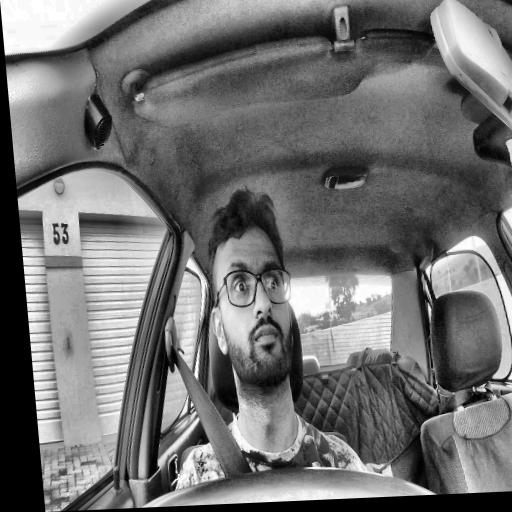awake: (200, 183, 301, 402)
